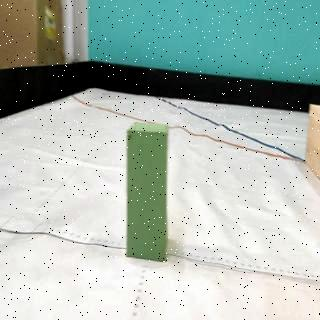greenbox: (127, 122, 167, 262)
